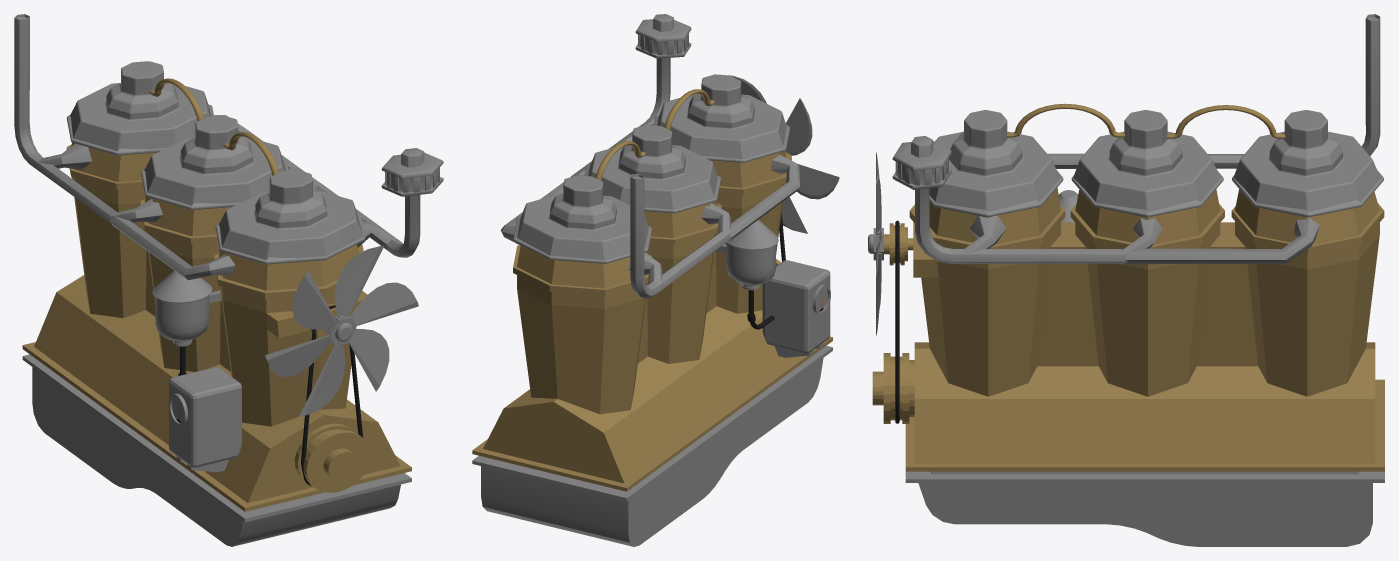
The model's file is ggg4.fbx.
3 renders of one model, left to right at view 1: azimuth 30°, elevation 25°; view 2: azimuth 150°, elevation 25°; view 3: azimuth 270°, elevation 25°, orthographic. The views are drawn at different scales.
Visible parts, largest first — view 1: Circle, Circle.001, Circle.004, Circle.005, Plane.001, Cube, Plane.002, Cylinder, Plane, Circle.003, Circle.002, Circle.006; view 2: Circle, Circle.001, Circle.004, Plane.001, Cube, Plane.002, Circle.005, Cylinder, Circle.003, Circle.002; view 3: Circle, Circle.001, Circle.004, Plane.002, Plane.001, Circle.005, Plane, Circle.002, Circle.003.
Boxes of the visible parts, bbox=[...] form: Circle: bbox=[22, 142, 411, 511]; Circle.001: bbox=[66, 61, 365, 264]; Circle.004: bbox=[22, 354, 411, 546]; Circle.005: bbox=[265, 245, 418, 416]; Plane.001: bbox=[14, 14, 235, 280]; Cube: bbox=[169, 367, 241, 472]; Plane.002: bbox=[214, 115, 443, 257]; Cylinder: bbox=[152, 270, 221, 346]; Plane: bbox=[301, 305, 363, 485]; Circle.003: bbox=[223, 132, 278, 175]; Circle.002: bbox=[149, 78, 203, 120]; Circle.006: bbox=[168, 393, 188, 426]; Circle: bbox=[472, 151, 832, 491]; Circle.001: bbox=[513, 74, 789, 263]; Circle.004: bbox=[472, 345, 832, 546]; Plane.001: bbox=[628, 154, 800, 299]; Cube: bbox=[762, 260, 830, 357]; Plane.002: bbox=[500, 14, 691, 245]; Circle.005: bbox=[730, 75, 839, 233]; Cylinder: bbox=[715, 220, 778, 290]; Circle.003: bbox=[664, 89, 715, 129]; Circle.002: bbox=[595, 141, 646, 180]; Circle: bbox=[872, 187, 1384, 471]; Circle.001: bbox=[929, 110, 1383, 217]; Circle.004: bbox=[905, 471, 1384, 546]; Plane.002: bbox=[892, 136, 1319, 264]; Plane.001: bbox=[1047, 14, 1380, 168]; Circle.005: bbox=[868, 152, 883, 335]; Plane: bbox=[895, 220, 899, 423]; Circle.002: bbox=[1166, 105, 1285, 138]; Circle.003: bbox=[1006, 103, 1125, 137].
Size of the model in its own units: 66.92 by 113 by 120.
